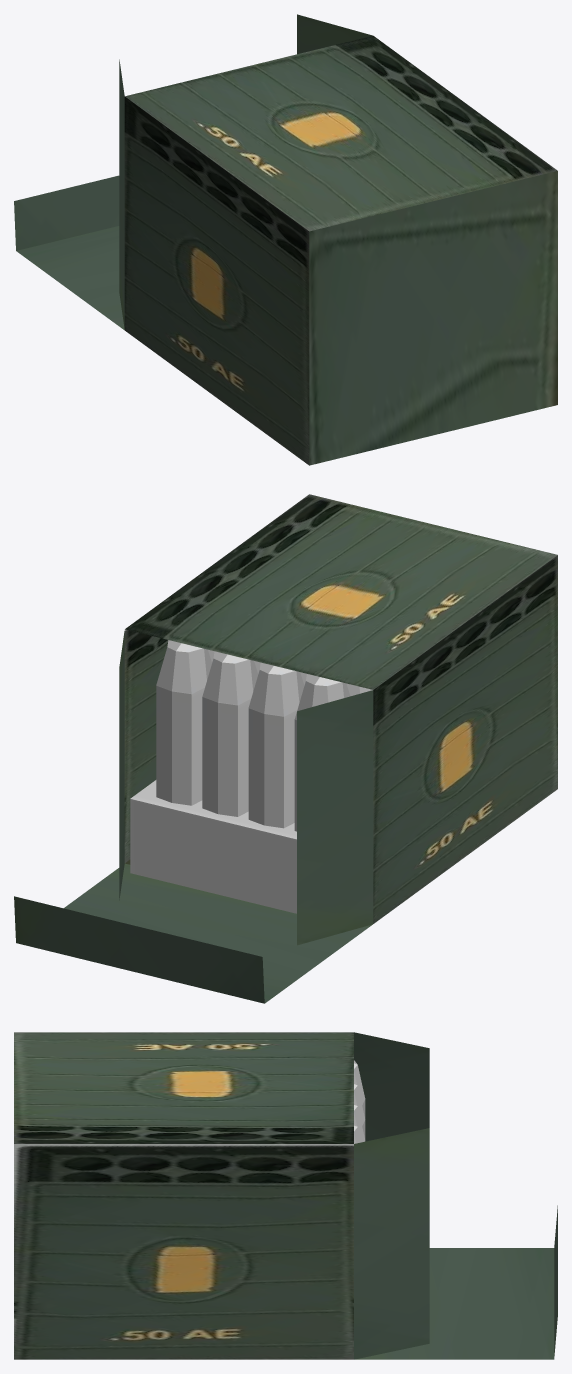
3 renders of one model, top to bottom at view 1: azimuth 30°, elevation 25°; view 2: azimuth 150°, elevation 25°; view 3: azimuth 270°, elevation 25°, orthographic. The views are drawn at different scales.
Parts seen in each view (by area): view 1: Caja; view 2: Caja; view 3: Caja.
Boxes of the visible parts, x1,y1,x2,y2 form: Caja: [14, 14, 557, 465]; Caja: [14, 494, 557, 1003]; Caja: [14, 1032, 557, 1359].
Bounding box in the file's own units: 0.063 × 0.0567 × 0.1296.
1 material, 1 textured.
